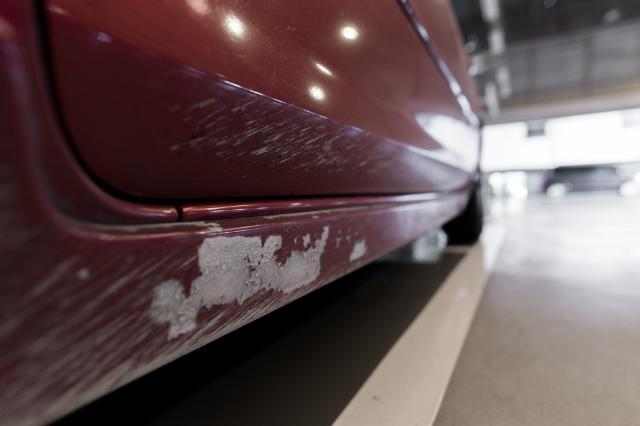scratch: (0, 214, 358, 426), (165, 81, 399, 173)
